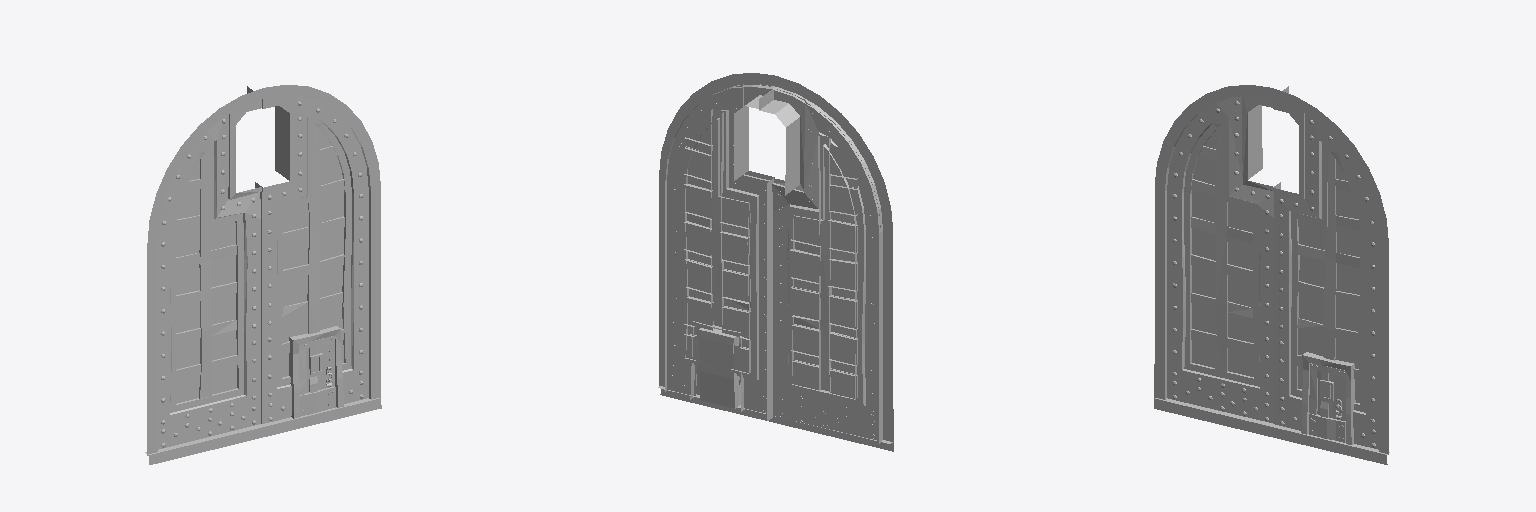
The model's file is gate01_arena.obj.
3 views of the same model, side by side, from view 1: azimuth 30°, elevation 25°; view 2: azimuth 150°, elevation 25°; view 3: azimuth 330°, elevation 25° (orthographic).
Parts seen in each view (by area): view 1: gate01_arena; view 2: gate01_arena; view 3: gate01_arena.
Boxes of the visible parts, <box> form: gate01_arena: <box>145,85,381,464</box>; gate01_arena: <box>658,73,893,451</box>; gate01_arena: <box>1154,85,1389,464</box>.
Size of the model in its own units: 5.01 by 7.12 by 0.6954.